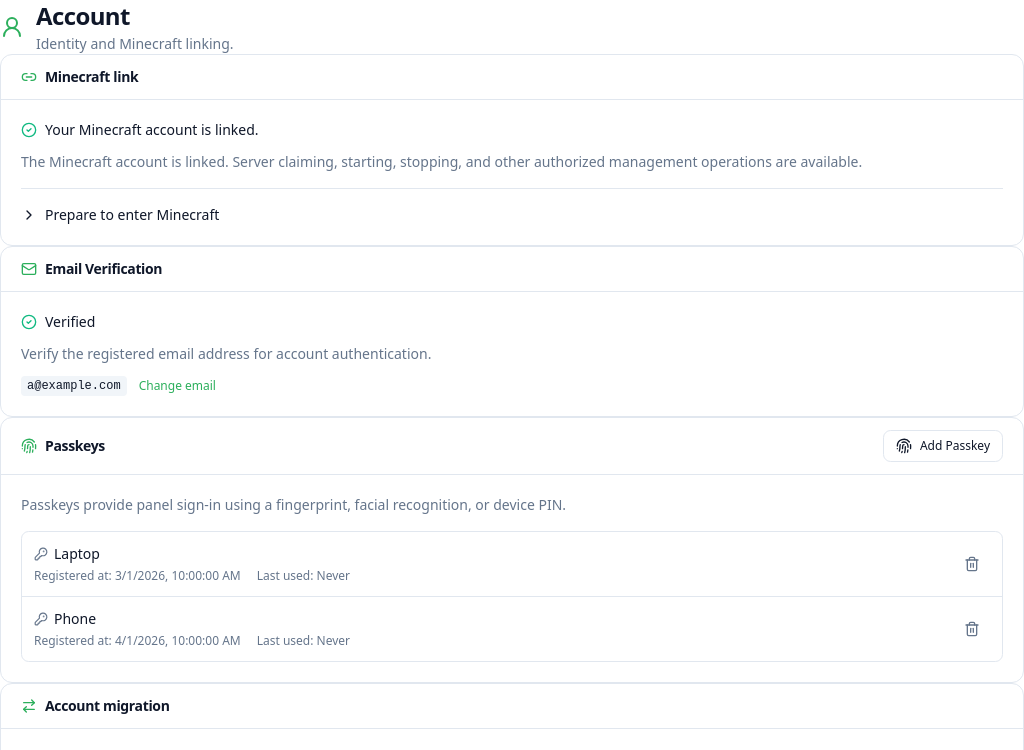
Test: Account re-authentication › asks for an email code before deleting a passkey, then deletes it
Click the button named "Delete passkey “Laptop”" at [972, 564], box [954,546,990,582]
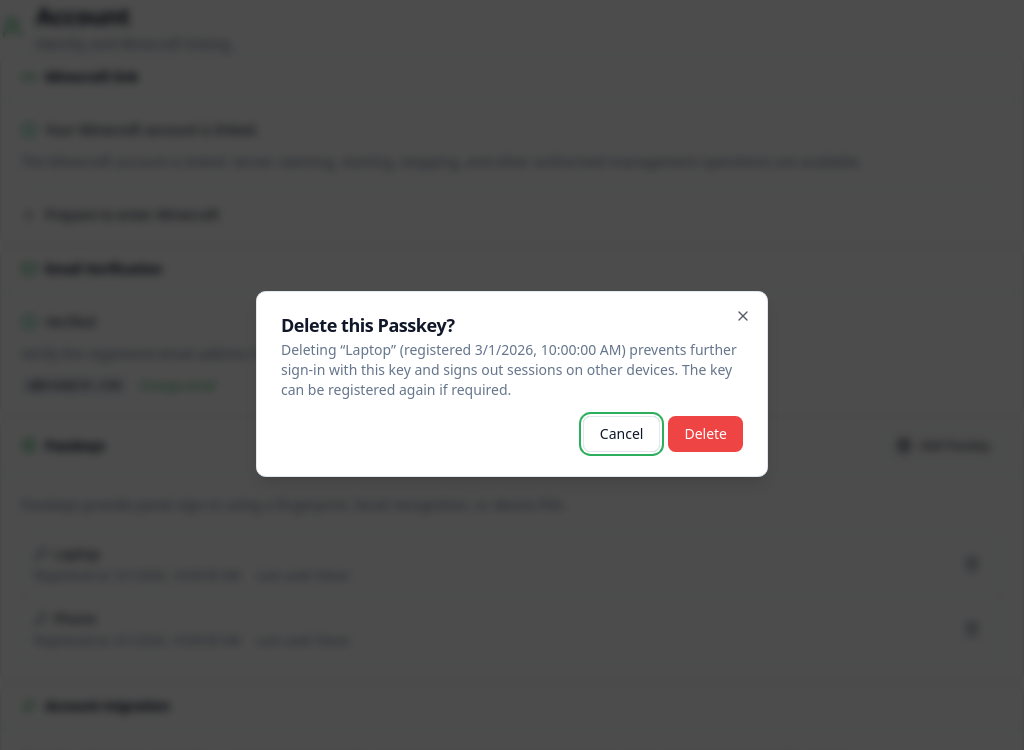
Click the button "Delete" at [706, 434], box [668,416,743,452]
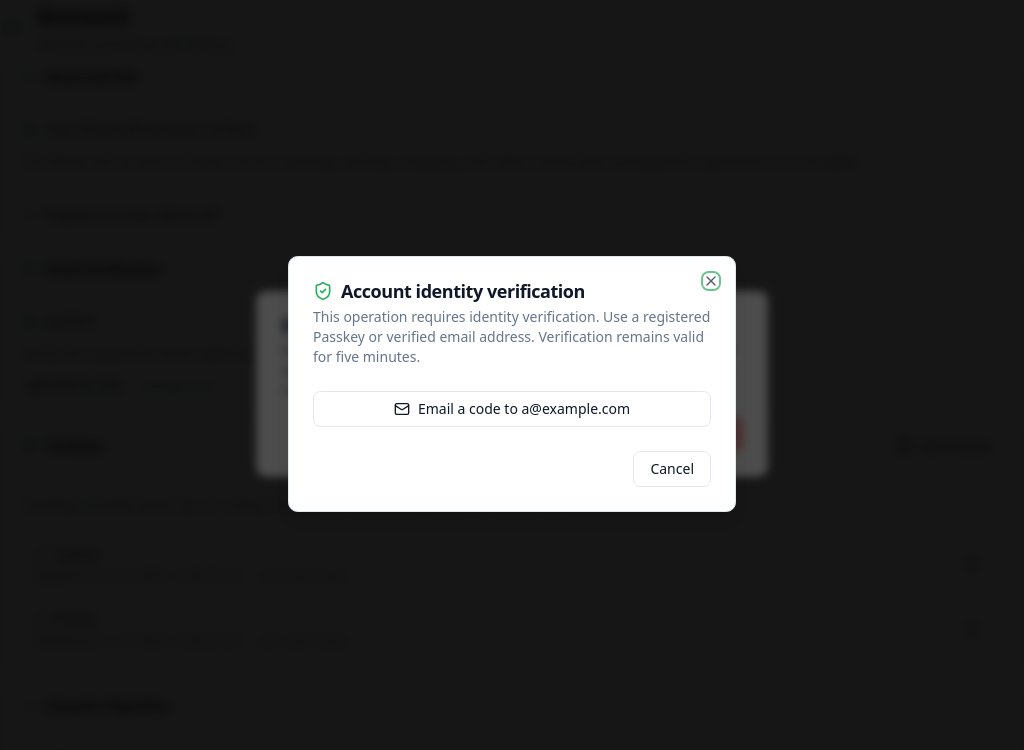
Click the button "Email a code to a@example.com" at [512, 409], box [313,391,711,427]
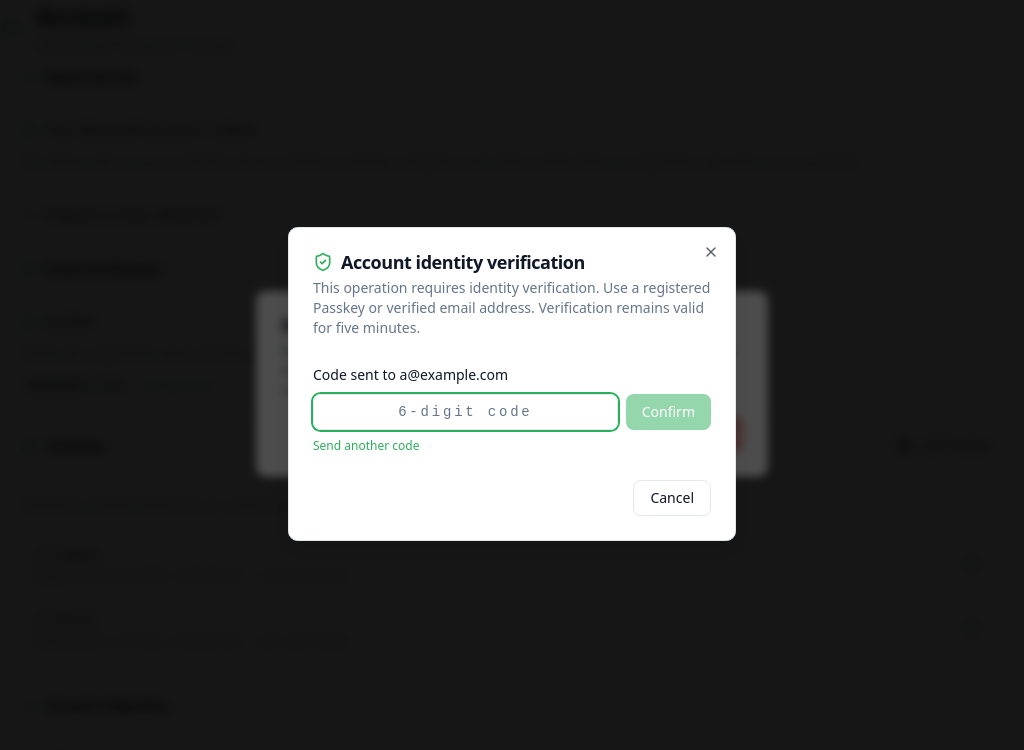
Type "123456" into the field labelled "Code sent to a@example.com" at [465, 412], box [313,394,618,430]
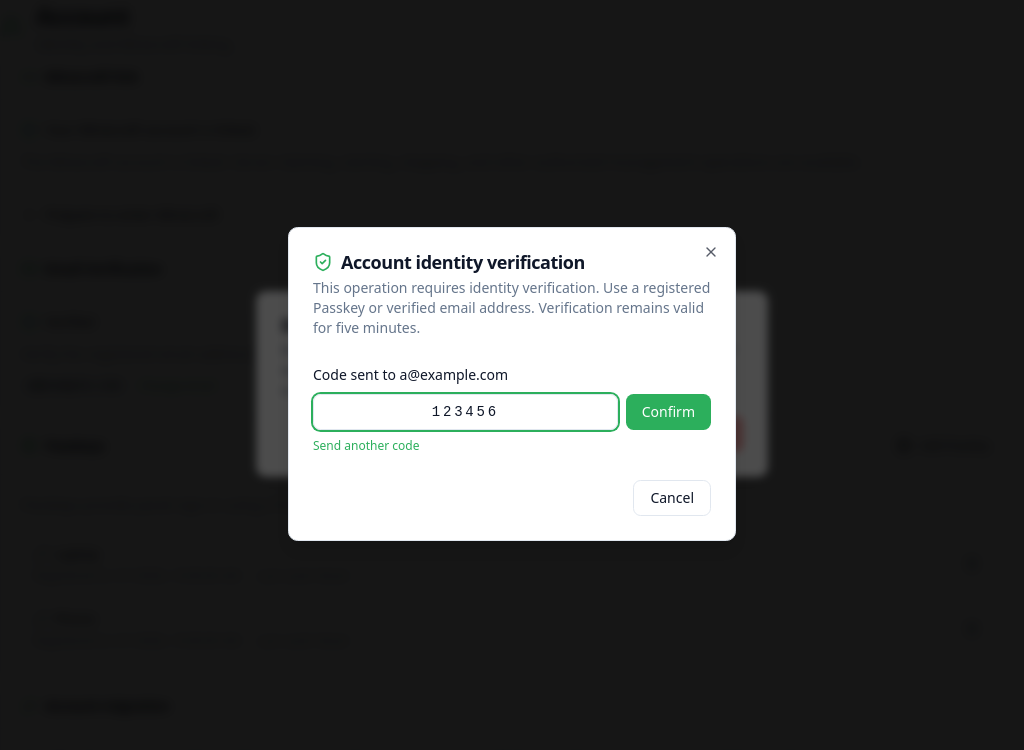
Click the button "Confirm" at [668, 412], box [626,394,711,430]
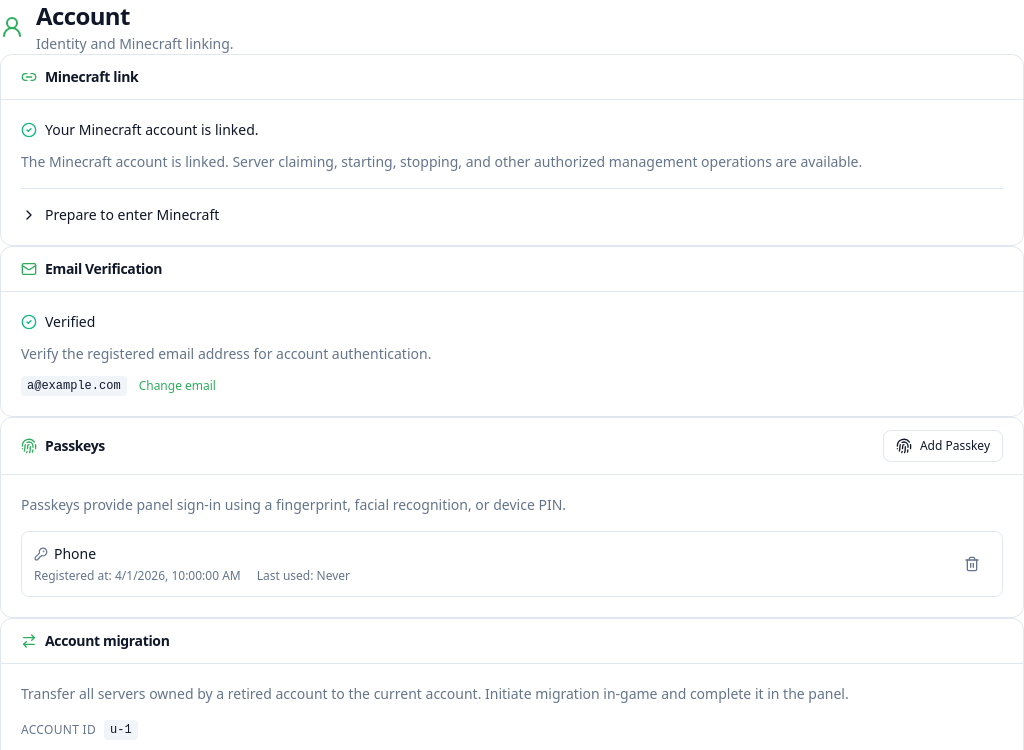
Now the dialog is gone
